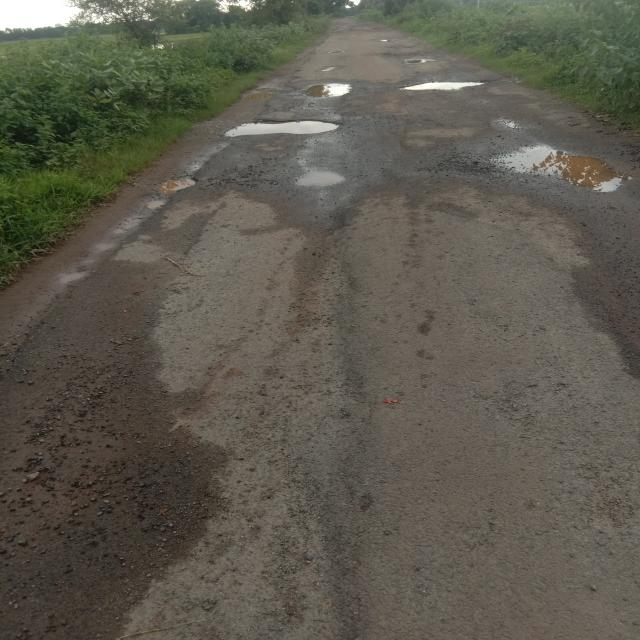potholes: (482, 140, 640, 196), (220, 120, 344, 142), (394, 77, 494, 95), (289, 166, 352, 192), (297, 80, 352, 103), (158, 169, 200, 196), (388, 53, 440, 70), (491, 115, 527, 131), (309, 60, 342, 77)
